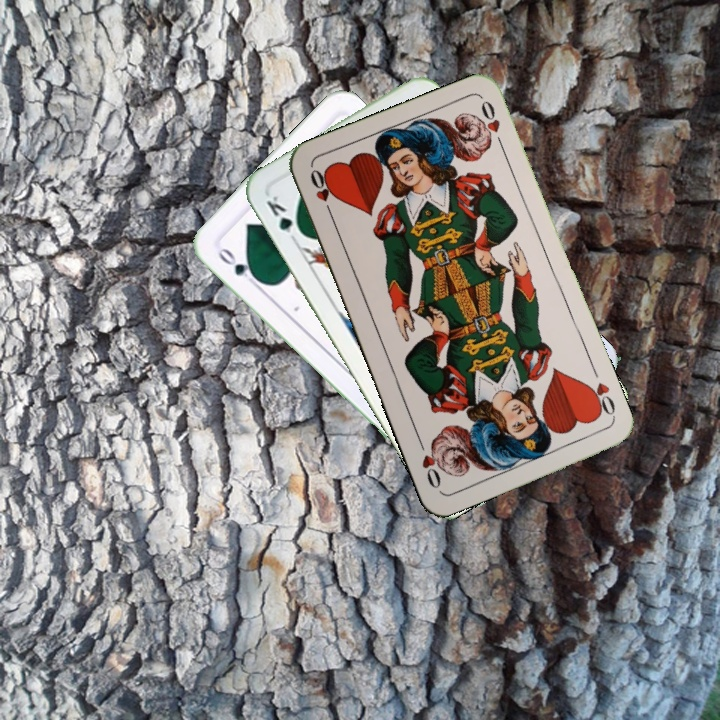GK: (262, 191, 306, 245)
GO: (213, 240, 262, 288)
HO: (306, 164, 337, 222), (582, 378, 619, 422)
